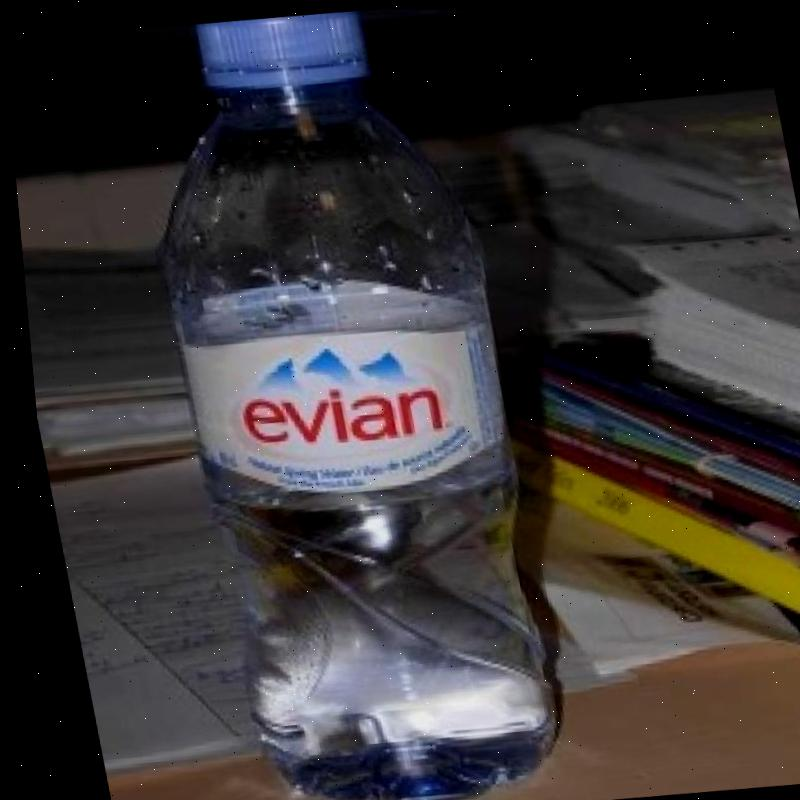botella: (106, 2, 572, 800)
